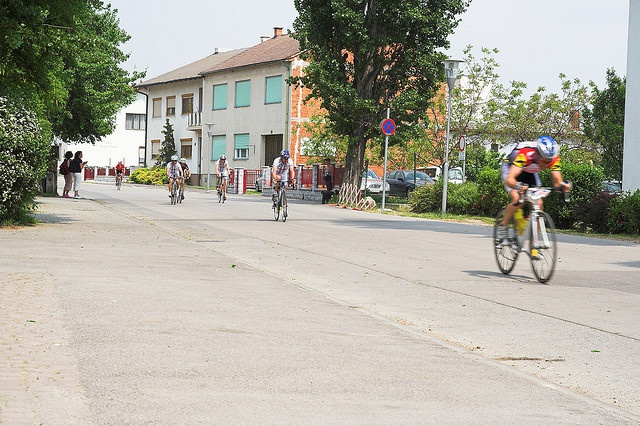non-vehicle: (493, 183, 570, 281), (271, 179, 292, 221), (168, 175, 181, 205), (176, 176, 190, 203), (217, 180, 224, 196), (115, 178, 121, 190)
